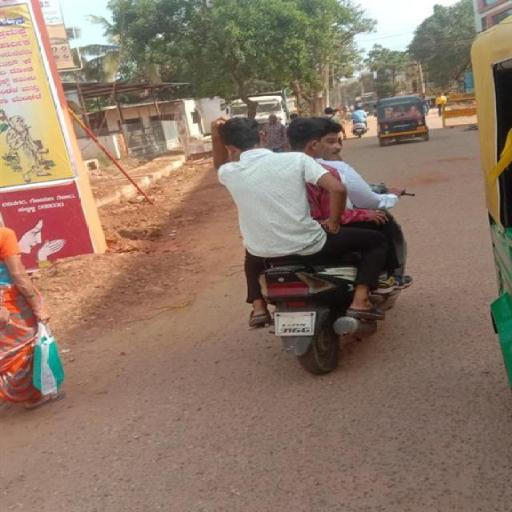tripple riding: (202, 112, 416, 268)
